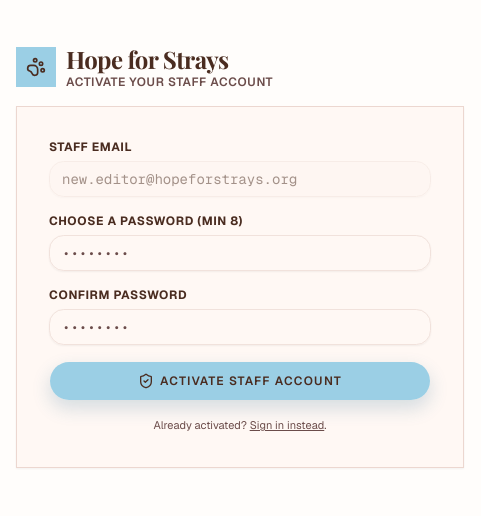
Test: /admin/invite › stays put and says why when the invitation is refused
Type "a-long-enough-password" into the password field with id "invite-password". click: (240, 253)
box: [49, 235, 431, 271]
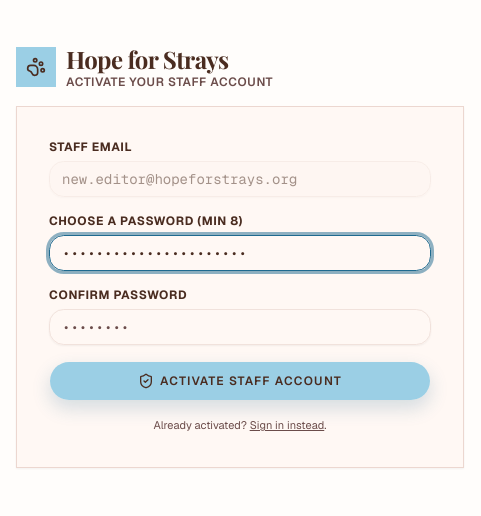
Type "a-long-enough-password" into the password field with id "invite-confirm-password". click: (240, 327)
box: [49, 309, 431, 345]
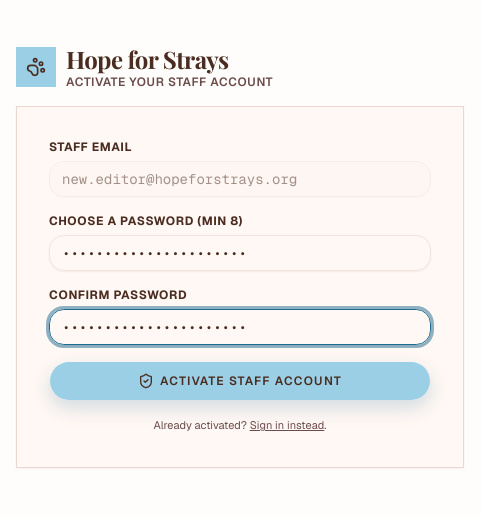
Click the button "Activate Staff Account". click: (240, 381)
box: [49, 361, 431, 401]
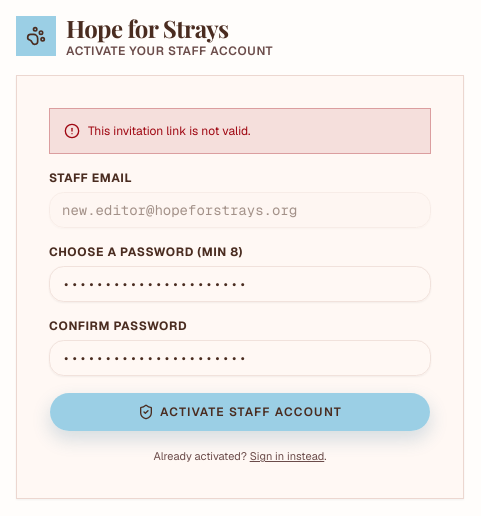
Now the text "This invitation link is not valid." is shown, box [88, 123, 250, 139]
